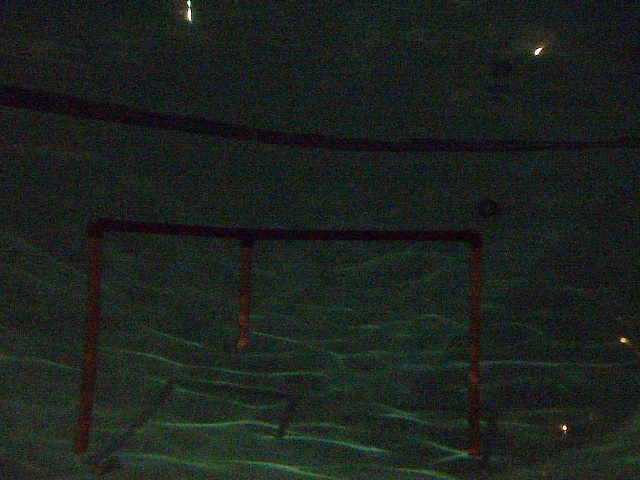Gate: (74, 232, 107, 453), (465, 242, 486, 459), (235, 240, 255, 333)
